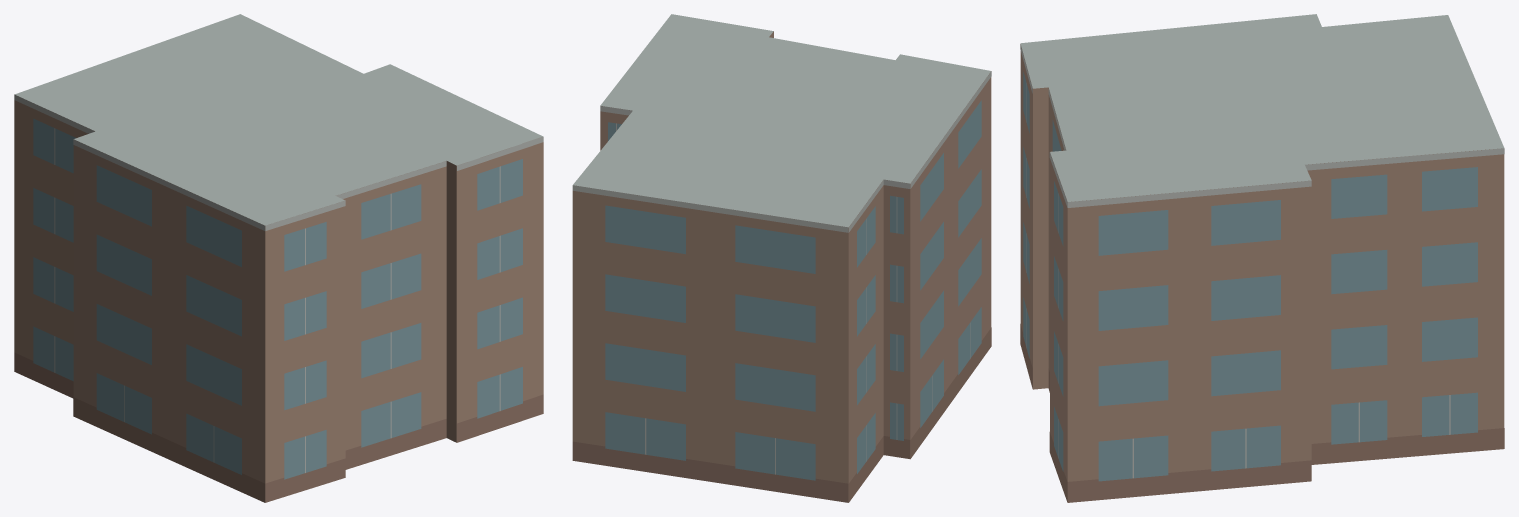
File: survey-upis-32937625.glb
The picture shows the model from 3 angles, left to right: view 1: azimuth 30°, elevation 25°; view 2: azimuth 150°, elevation 25°; view 3: azimuth 270°, elevation 25°; orthographic projection. The views are drawn at different scales.
Parts seen in each view (by area): view 1: survey-upis-32937625.tmp; view 2: survey-upis-32937625.tmp; view 3: survey-upis-32937625.tmp.
Part boxes in pixels (box(x1,y1,x2,y2)): survey-upis-32937625.tmp: box(14, 14, 543, 502); survey-upis-32937625.tmp: box(572, 14, 991, 502); survey-upis-32937625.tmp: box(1020, 14, 1504, 502).
Size of the model in its own units: 16.23 by 12.1 by 17.66.
